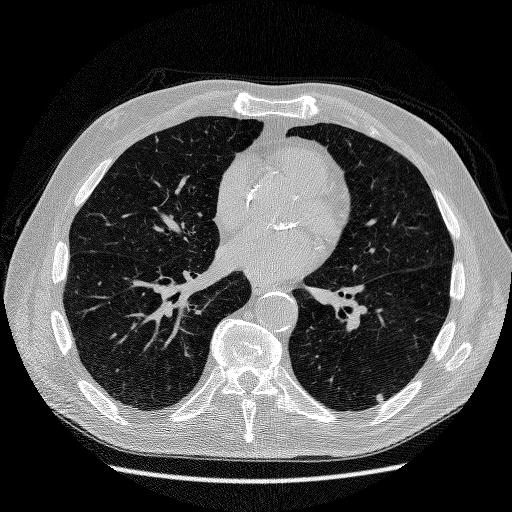nodule: (373, 392, 386, 405)
